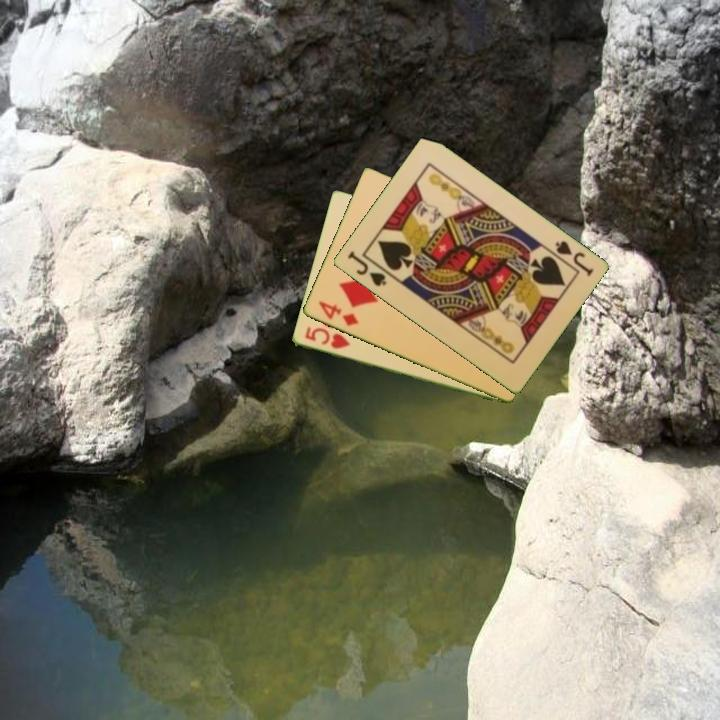4d: (314, 298, 361, 329)
5h: (301, 323, 353, 352)
Js: (546, 237, 596, 279), (344, 247, 389, 290)
